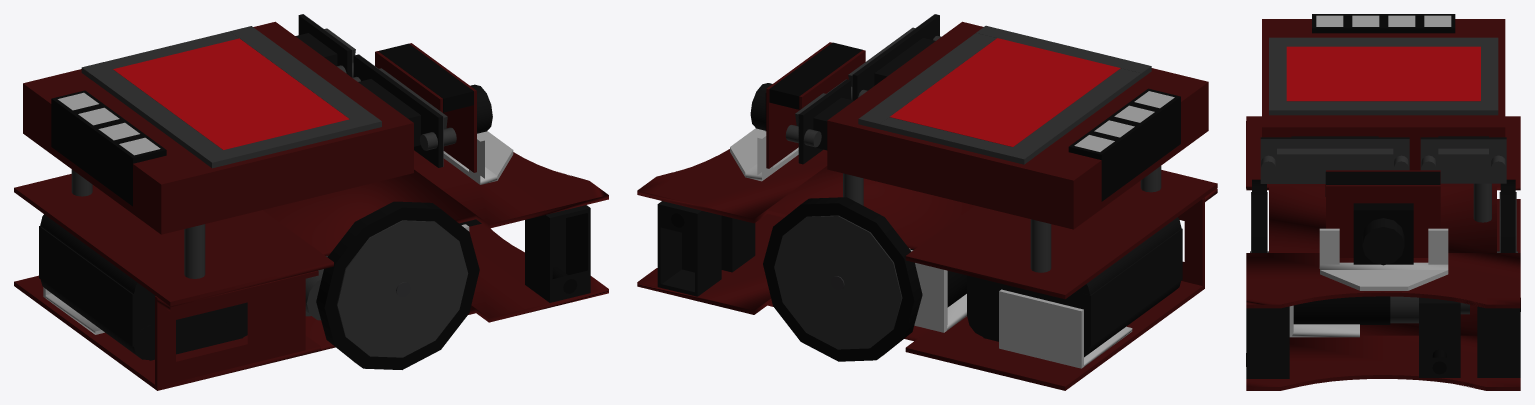
Rendered from S4red.obj.
3 views of the same model, side by side, from view 1: azimuth 30°, elevation 25°; view 2: azimuth 150°, elevation 25°; view 3: azimuth 270°, elevation 25° (orthographic). The views are drawn at different scales.
Visible parts, largest first — view 1: <MS3DRoot>; view 2: <MS3DRoot>; view 3: <MS3DRoot>.
Part boxes in pixels (<box>): <MS3DRoot>: <box>14,14,608,390</box>; <MS3DRoot>: <box>637,14,1217,390</box>; <MS3DRoot>: <box>1246,14,1520,390</box>.
Size of the model in its own units: 0.1556 by 0.0828 by 0.0959.
